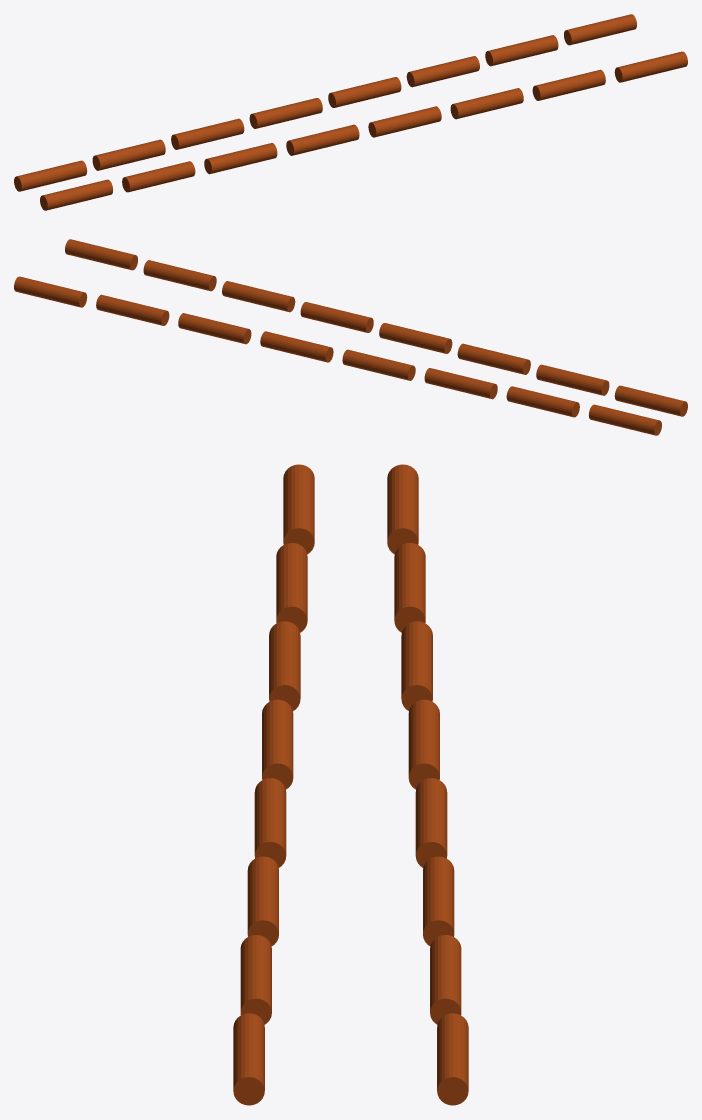
The model's file is tail_link__copper.dae.
3 renders of one model, top to bottom at view 1: azimuth 30°, elevation 25°; view 2: azimuth 150°, elevation 25°; view 3: azimuth 270°, elevation 25°, orthographic. The views are drawn at different scales.
Parts seen in each view (by area): view 1: mesh3-node, mesh10-node, mesh12-node, mesh8-node, mesh11-node, mesh13-node, mesh0-node, mesh4-node, mesh6-node, mesh7-node, mesh15-node, mesh1-node (+4 smaller); view 2: mesh2-node, mesh11-node, mesh13-node, mesh9-node, mesh10-node, mesh12-node, mesh1-node, mesh5-node, mesh6-node, mesh7-node, mesh14-node, mesh0-node (+4 smaller); view 3: mesh0-node, mesh1-node, mesh6-node, mesh7-node, mesh10-node, mesh11-node, mesh8-node, mesh9-node, mesh12-node, mesh13-node, mesh14-node, mesh15-node (+4 smaller).
Boxes of the visible parts, box(x1,y1,x2,y2) form: mesh3-node: box(485, 35, 558, 66); mesh10-node: box(204, 143, 277, 174); mesh12-node: box(122, 161, 195, 192); mesh8-node: box(286, 124, 359, 155); mesh11-node: box(171, 118, 244, 149); mesh13-node: box(92, 139, 165, 170); mesh0-node: box(614, 51, 687, 82); mesh4-node: box(450, 88, 523, 119); mesh6-node: box(368, 106, 441, 137); mesh7-node: box(328, 77, 401, 107); mesh15-node: box(14, 160, 87, 191); mesh1-node: box(564, 14, 636, 45); mesh2-node: box(143, 260, 216, 291); mesh11-node: box(424, 368, 497, 399); mesh13-node: box(506, 386, 579, 417); mesh9-node: box(342, 349, 415, 380); mesh10-node: box(457, 343, 530, 374); mesh12-node: box(536, 364, 609, 395); mesh1-node: box(14, 276, 87, 307); mesh5-node: box(178, 313, 251, 344); mesh6-node: box(300, 302, 373, 332); mesh7-node: box(260, 331, 333, 362); mesh14-node: box(614, 385, 687, 416); mesh0-node: box(65, 239, 137, 270); mesh0-node: box(233, 1013, 264, 1105); mesh1-node: box(437, 1013, 468, 1105); mesh6-node: box(254, 778, 286, 867); mesh7-node: box(415, 778, 447, 867); mesh10-node: box(269, 621, 300, 710); mesh11-node: box(401, 621, 432, 710); mesh8-node: box(262, 699, 293, 789); mesh9-node: box(408, 699, 439, 789); mesh12-node: box(276, 543, 307, 632); mesh13-node: box(394, 543, 425, 632); mesh14-node: box(283, 464, 314, 554); mesh15-node: box(387, 464, 418, 554).
Bounding box in the file's own units: 0.461 × 0.0748 × 0.01.
